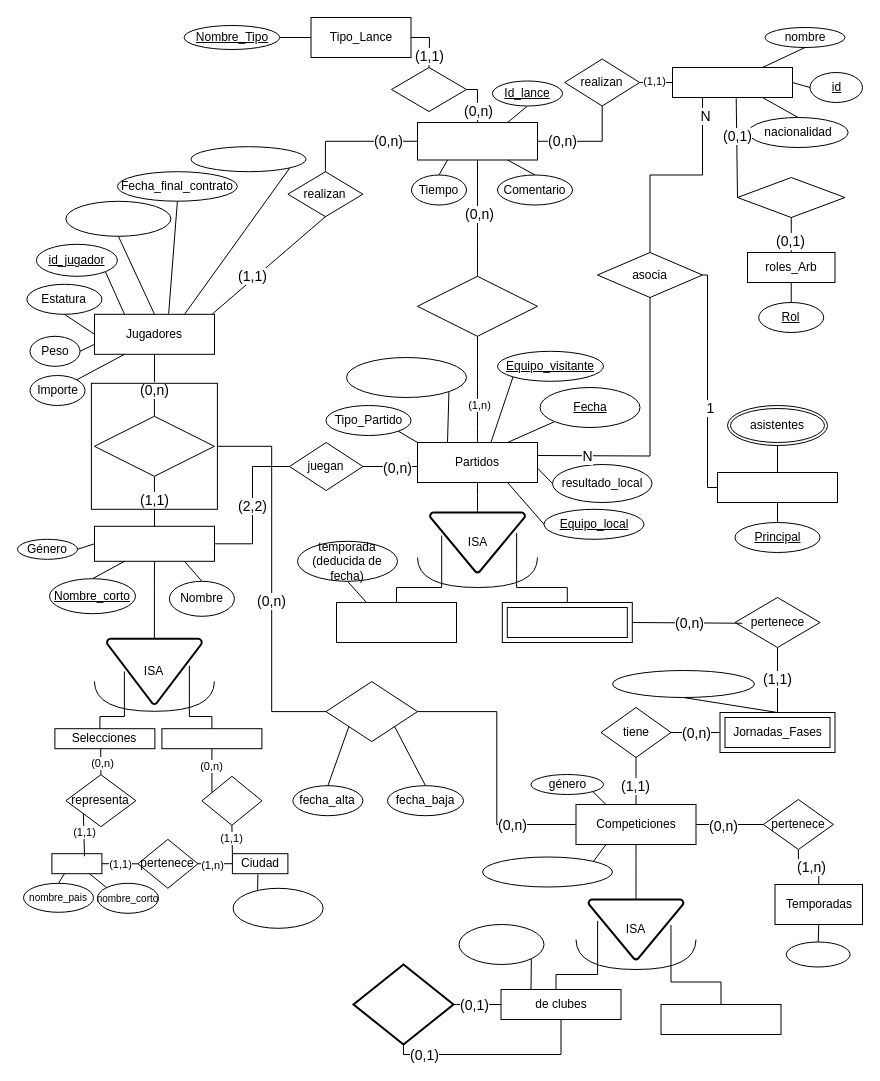
Some shapes in this 880 by 1081 pixel diagram are drawn without their labels. The shapes that lost their labels are listed below. From the top down, each one's box as (x1, y1, x2, y2) in pixels, then its label:
(390, 66, 466, 112): es de tipo
(672, 66, 792, 98): Árbitros
(190, 146, 306, 172): Nombre_deportivo
(416, 122, 538, 160): Lances
(736, 176, 845, 218): desempeñan
(65, 200, 171, 236): Nombre_completo
(416, 275, 538, 336): registran
(346, 356, 466, 398): resultado_visitante
(93, 415, 214, 476): forman/fichan
(716, 472, 838, 502): Equipo_arbitral
(94, 525, 214, 561): Equipos
(336, 602, 456, 642): Partido_amistoso
(501, 602, 632, 642): Partido_competitivo
(612, 670, 754, 698): Nombre_jornado_fase
(325, 681, 418, 742): inscriben
(161, 728, 262, 749): Clubes
(201, 775, 262, 825): ubicado
(51, 853, 102, 874): País
(482, 856, 612, 887): nombre_competición
(232, 887, 323, 928): nombre_ciudad
(458, 924, 544, 964): nacional/ internacional
(785, 941, 850, 967): año
(352, 963, 454, 1045): es nueva versión de
(660, 1004, 781, 1034): de naciones
